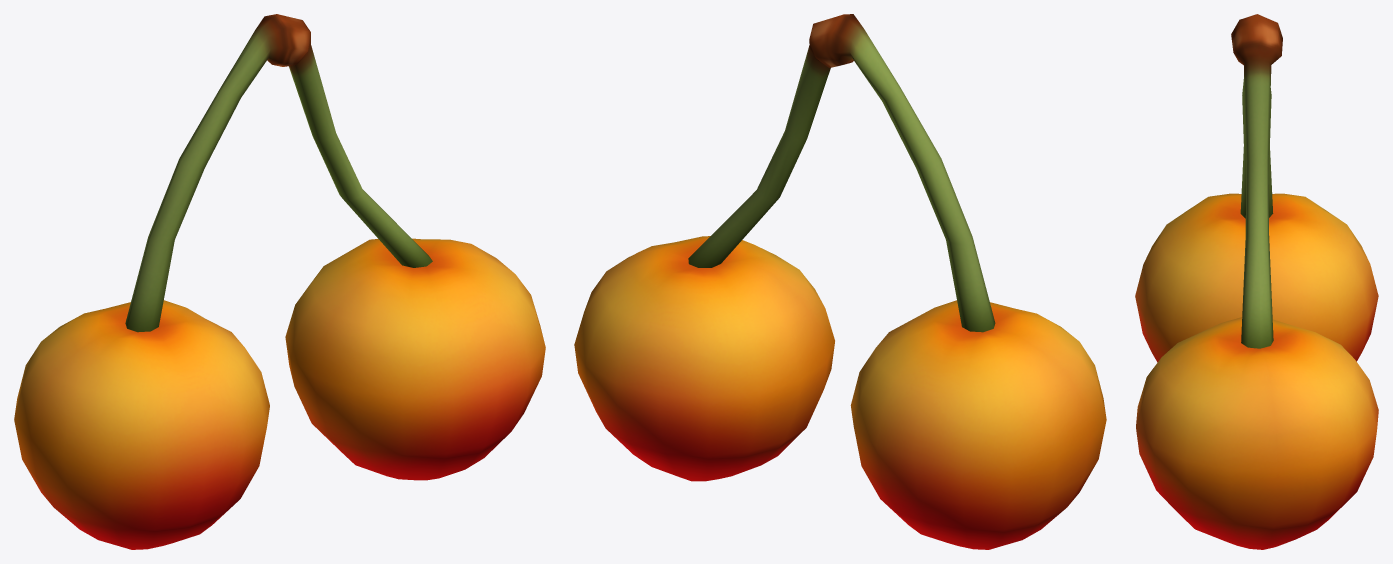
File: Cherries_Rainier.fbx
3 views of the same model, side by side, from view 1: azimuth 30°, elevation 25°; view 2: azimuth 150°, elevation 25°; view 3: azimuth 270°, elevation 25° (orthographic). The views are drawn at different scales.
Visible parts, largest first — view 1: Cherries_Rainier; view 2: Cherries_Rainier; view 3: Cherries_Rainier.
Boxes of the visible parts, x1,y1,x2,y2 form: Cherries_Rainier: (14, 14, 545, 549); Cherries_Rainier: (574, 14, 1106, 549); Cherries_Rainier: (1135, 14, 1378, 549).
Bounding box in the file's own units: 32.21 × 30.46 × 14.52.
